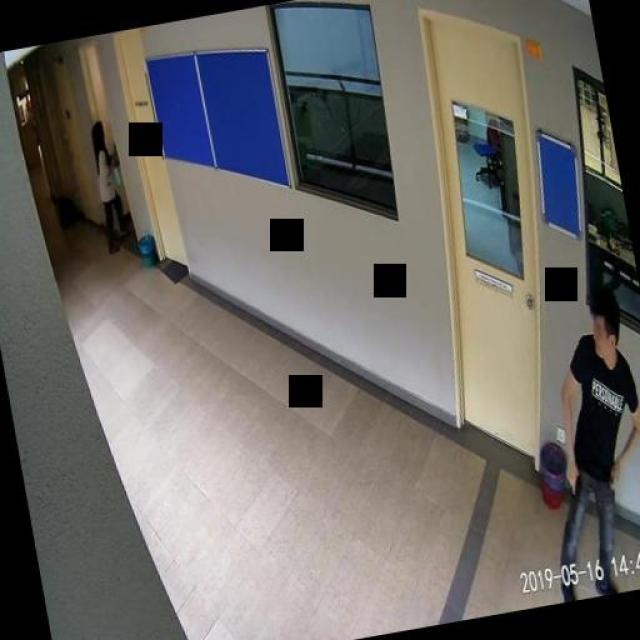gun: (563, 468, 585, 522)
